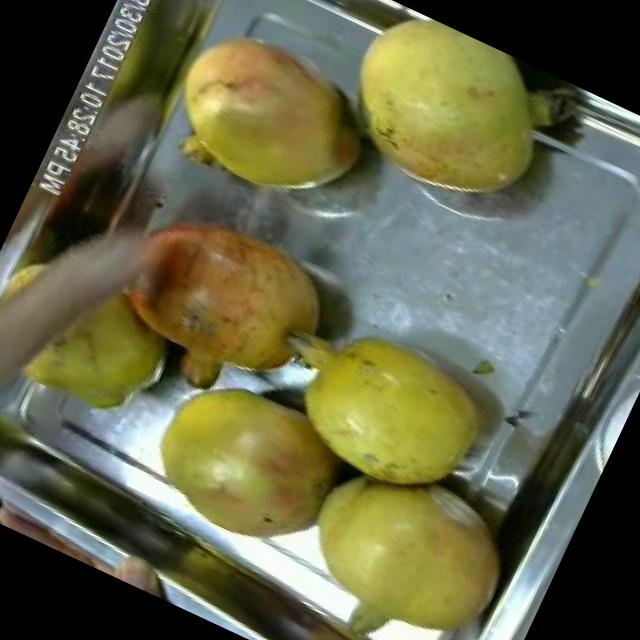fruit: (67, 166, 376, 448), (291, 0, 590, 256), (129, 0, 412, 251), (251, 281, 527, 538), (108, 335, 378, 586)
